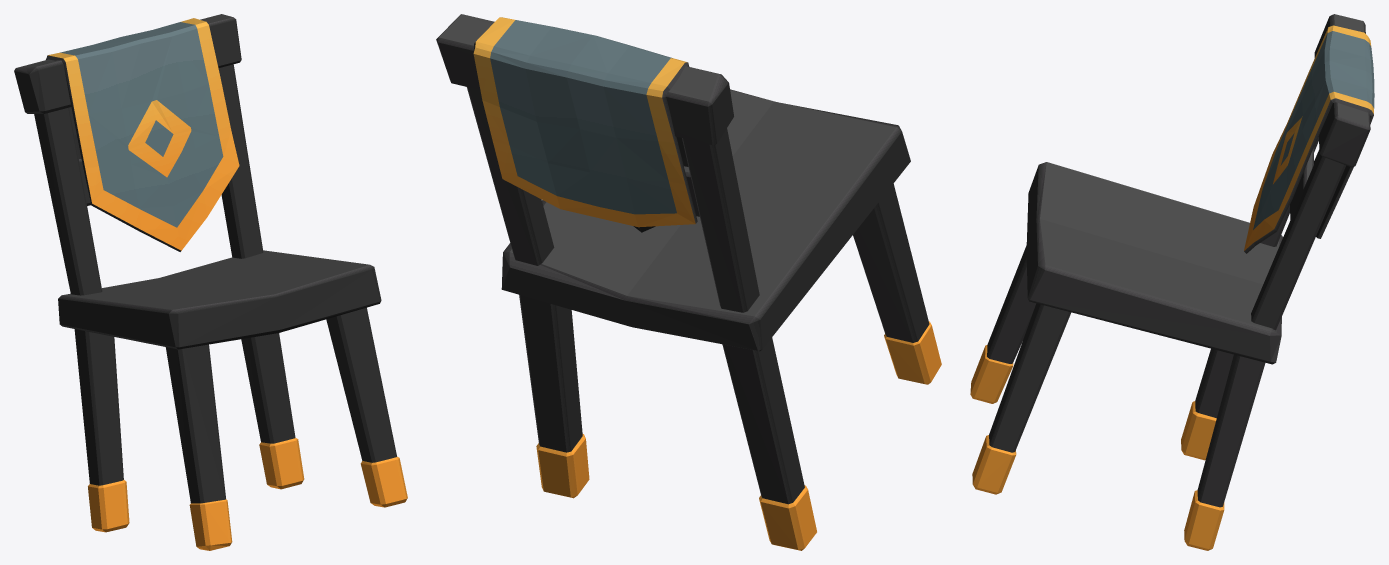
File: CharSkyKid_Prop_TableSilver.glb
3 views of the same model, side by side, from view 1: azimuth 30°, elevation 25°; view 2: azimuth 150°, elevation 25°; view 3: azimuth 270°, elevation 25° (orthographic). The views are drawn at different scales.
Parts seen in each view (by area): view 1: CharSkyKid_Prop_TableSilver; view 2: CharSkyKid_Prop_TableSilver; view 3: CharSkyKid_Prop_TableSilver.
Part boxes in pixels (x1,y1,x2,y2): CharSkyKid_Prop_TableSilver: (14, 14, 407, 550); CharSkyKid_Prop_TableSilver: (436, 14, 941, 550); CharSkyKid_Prop_TableSilver: (970, 14, 1374, 550).
Bounding box in the file's own units: 2.96 × 5.61 × 4.65.
1 material, 1 textured.
